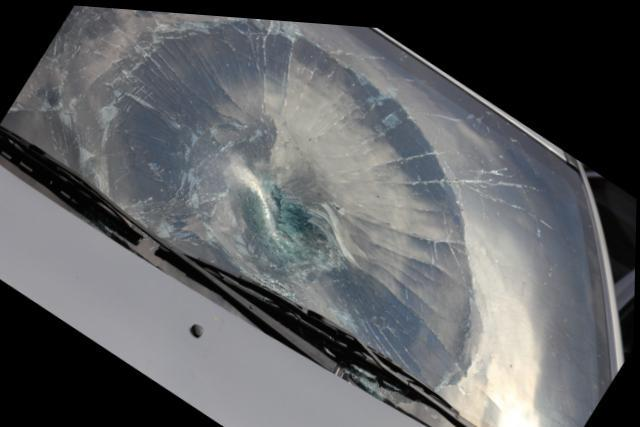glass shatter: (0, 4, 612, 427)
